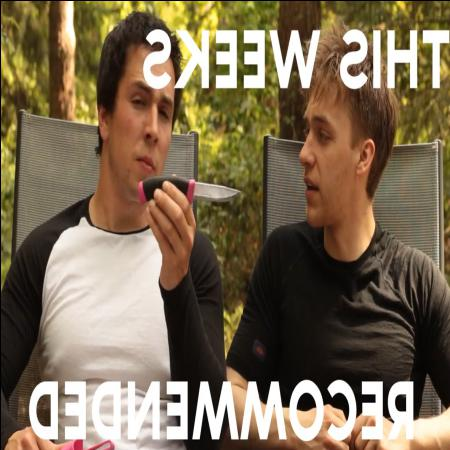long weapon: (131, 166, 250, 226)
